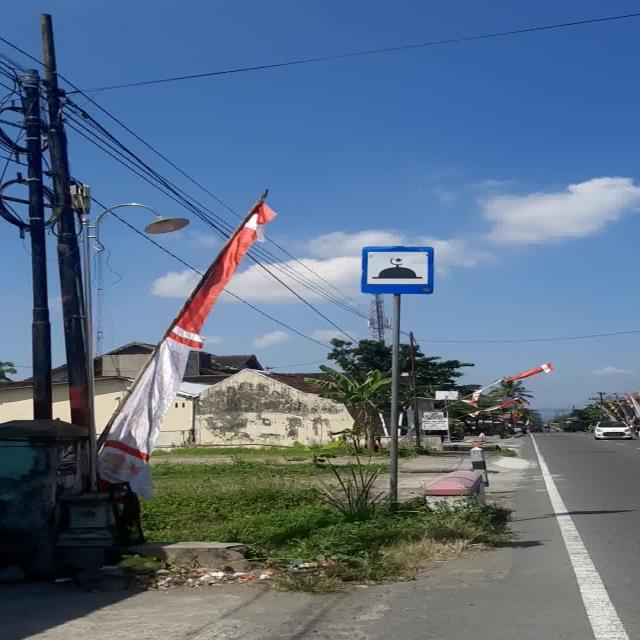Masjid: (361, 246, 434, 294)
